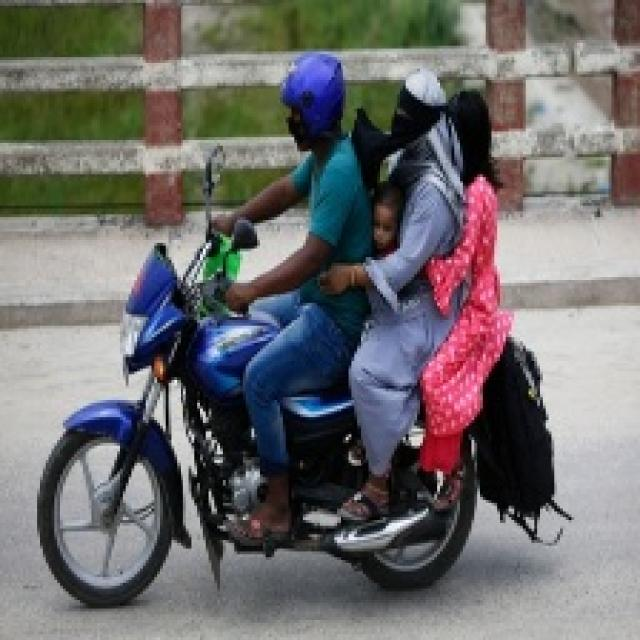bike: (32, 271, 493, 583)
